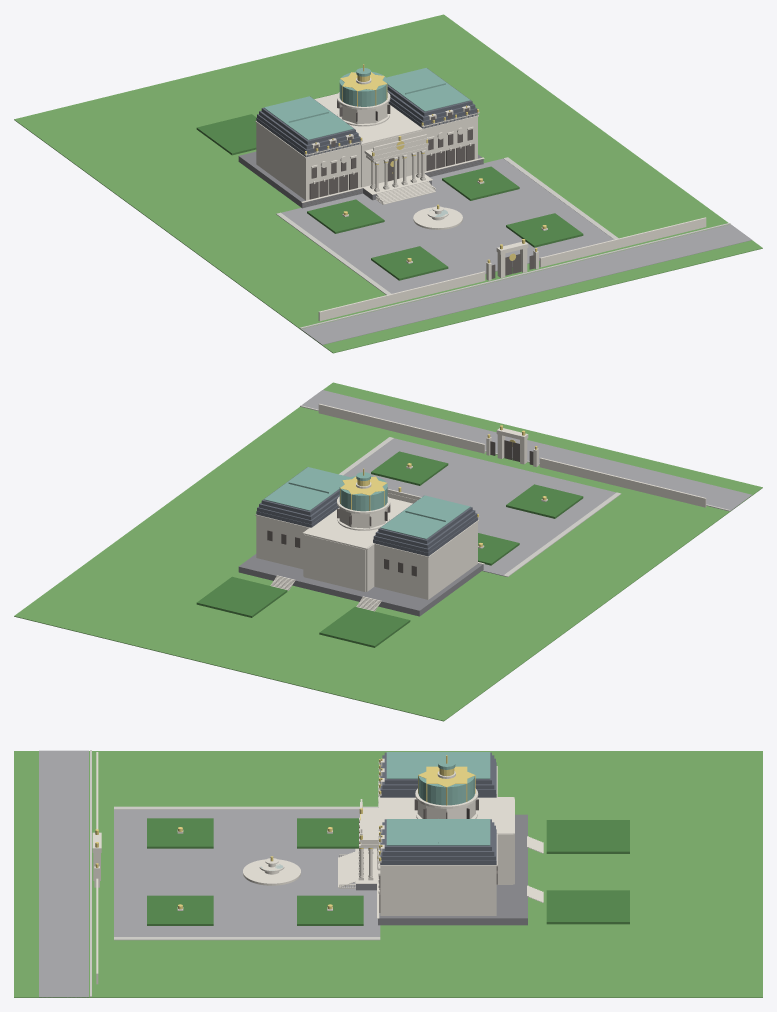
Rendered from imperial_palace.glb.
3 renders of one model, top to bottom at view 1: azimuth 30°, elevation 25°; view 2: azimuth 150°, elevation 25°; view 3: azimuth 270°, elevation 25°, orthographic. The views are drawn at different scales.
Visible parts, largest first — view 1: Estate_Ground_Plane, Forecourt_Cobblestone, Public_Royal_Avenue, Wing_West_Solid_Core, Wing_West_Mansard_Copper_Ridge_Roll, Wing_East_Mansard_Copper_Ridge_Roll, Perimeter_Wall_Right, Perimeter_Wall_Left, Rear_Garden_Hedge_-20.0, Parterre_Hedge_Outer_-22.0_-50.0, Parterre_Hedge_Outer_-22.0_-14.0, Parterre_Hedge_Outer_22.0_-14.0 (+11 smaller); view 2: Estate_Ground_Plane, Forecourt_Cobblestone, Public_Royal_Avenue, Wing_West_Solid_Core, Palace_Podium_Base, Corps_Rear_Wall, Rear_Garden_Hedge_20.0, Rear_Garden_Hedge_-20.0, Wing_West_Mansard_Copper_Ridge_Roll, Wing_East_Mansard_Copper_Ridge_Roll, Wing_East_Solid_Core, Perimeter_Wall_Left (+9 smaller); view 3: Estate_Ground_Plane, Forecourt_Cobblestone, Public_Royal_Avenue, Wing_East_Solid_Core, Palace_Podium_Base, Rear_Garden_Hedge_20.0, Rear_Garden_Hedge_-20.0, Wing_East_Mansard_Copper_Ridge_Roll, Wing_West_Mansard_Copper_Ridge_Roll, Parterre_Hedge_Outer_22.0_-14.0, Parterre_Hedge_Outer_-22.0_-50.0, Parterre_Hedge_Outer_22.0_-50.0 (+18 smaller).
Part boxes in pixels (x1=…): Estate_Ground_Plane: x1=14, y1=14, x2=762, y2=353; Forecourt_Cobblestone: x1=281, y1=158, x2=613, y2=293; Public_Royal_Avenue: x1=301, y1=224, x2=751, y2=344; Wing_West_Solid_Core: x1=256, y1=123, x2=361, y2=200; Wing_West_Mansard_Copper_Ridge_Roll: x1=264, y1=96, x2=353, y2=139; Wing_East_Mansard_Copper_Ridge_Roll: x1=386, y1=68, x2=470, y2=111; Perimeter_Wall_Right: x1=539, y1=217, x2=706, y2=267; Perimeter_Wall_Left: x1=318, y1=271, x2=485, y2=321; Rear_Garden_Hedge_-20.0: x1=196, y1=114, x2=256, y2=155; Parterre_Hedge_Outer_-22.0_-50.0: x1=371, y1=246, x2=448, y2=280; Parterre_Hedge_Outer_-22.0_-14.0: x1=307, y1=199, x2=384, y2=233; Parterre_Hedge_Outer_22.0_-14.0: x1=442, y1=166, x2=519, y2=200; Estate_Ground_Plane: x1=14, y1=382, x2=762, y2=721; Forecourt_Cobblestone: x1=343, y1=438, x2=616, y2=576; Public_Royal_Avenue: x1=301, y1=390, x2=751, y2=510; Wing_West_Solid_Core: x1=374, y1=522, x2=477, y2=599; Palace_Podium_Base: x1=238, y1=554, x2=483, y2=616; Corps_Rear_Wall: x1=304, y1=534, x2=365, y2=591; Rear_Garden_Hedge_20.0: x1=196, y1=576, x2=287, y2=617; Rear_Garden_Hedge_-20.0: x1=319, y1=606, x2=410, y2=647; Wing_West_Mansard_Copper_Ridge_Roll: x1=381, y1=495, x2=470, y2=539; Wing_East_Mansard_Copper_Ridge_Roll: x1=264, y1=467, x2=349, y2=510; Wing_East_Solid_Core: x1=256, y1=516, x2=307, y2=569; Perimeter_Wall_Left: x1=539, y1=457, x2=706, y2=507; Estate_Ground_Plane: x1=14, y1=751, x2=762, y2=997; Forecourt_Cobblestone: x1=114, y1=809, x2=380, y2=936; Public_Royal_Avenue: x1=39, y1=750, x2=88, y2=997; Wing_East_Solid_Core: x1=380, y1=866, x2=496, y2=915; Palace_Podium_Base: x1=378, y1=814, x2=527, y2=925; Rear_Garden_Hedge_20.0: x1=546, y1=890, x2=629, y2=924; Rear_Garden_Hedge_-20.0: x1=546, y1=820, x2=629, y2=853; Wing_East_Mansard_Copper_Ridge_Roll: x1=386, y1=819, x2=490, y2=845; Wing_West_Mansard_Copper_Ridge_Roll: x1=386, y1=752, x2=490, y2=778; Parterre_Hedge_Outer_22.0_-14.0: x1=297, y1=895, x2=363, y2=925; Parterre_Hedge_Outer_-22.0_-50.0: x1=147, y1=818, x2=213, y2=848; Parterre_Hedge_Outer_22.0_-50.0: x1=147, y1=895, x2=213, y2=925.
Bounding box in the file's own units: 140 × 31.6 × 180.
